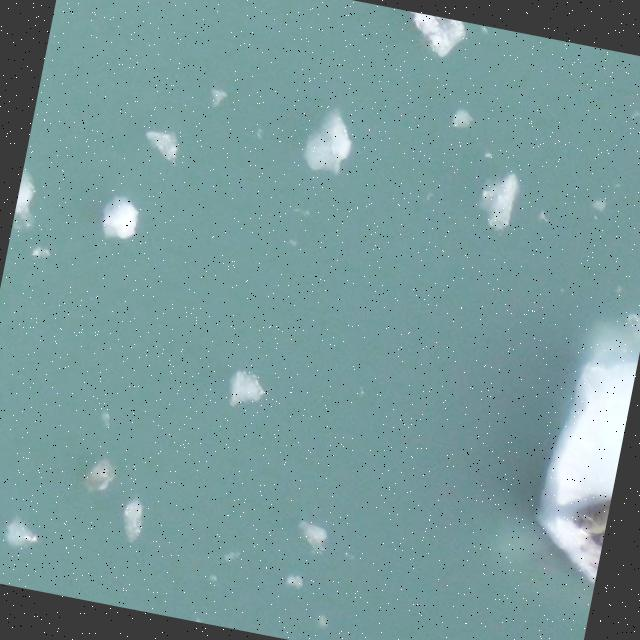seal: (571, 492, 611, 534), (588, 530, 605, 548)
